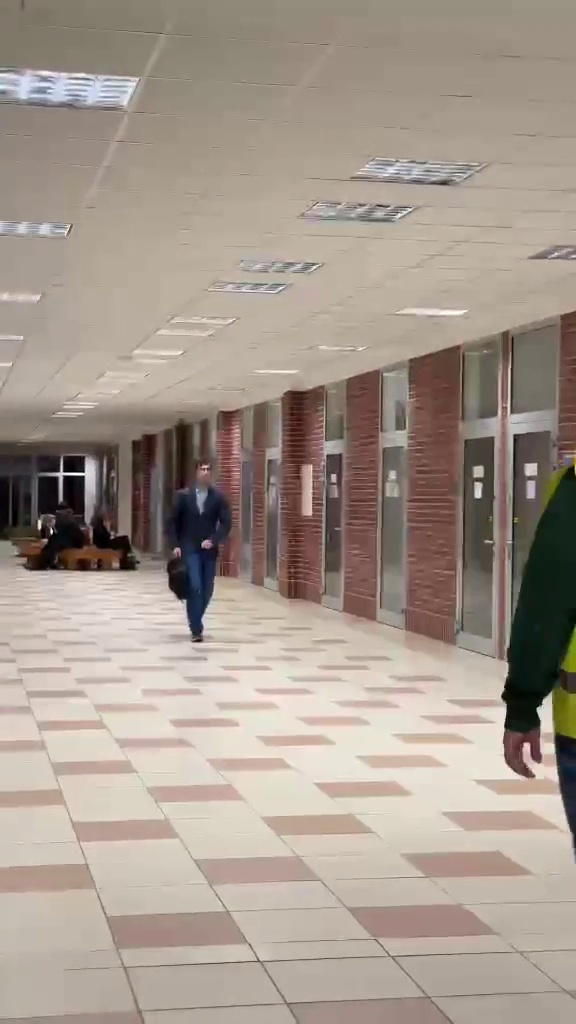no vest: (168, 453, 239, 640)
